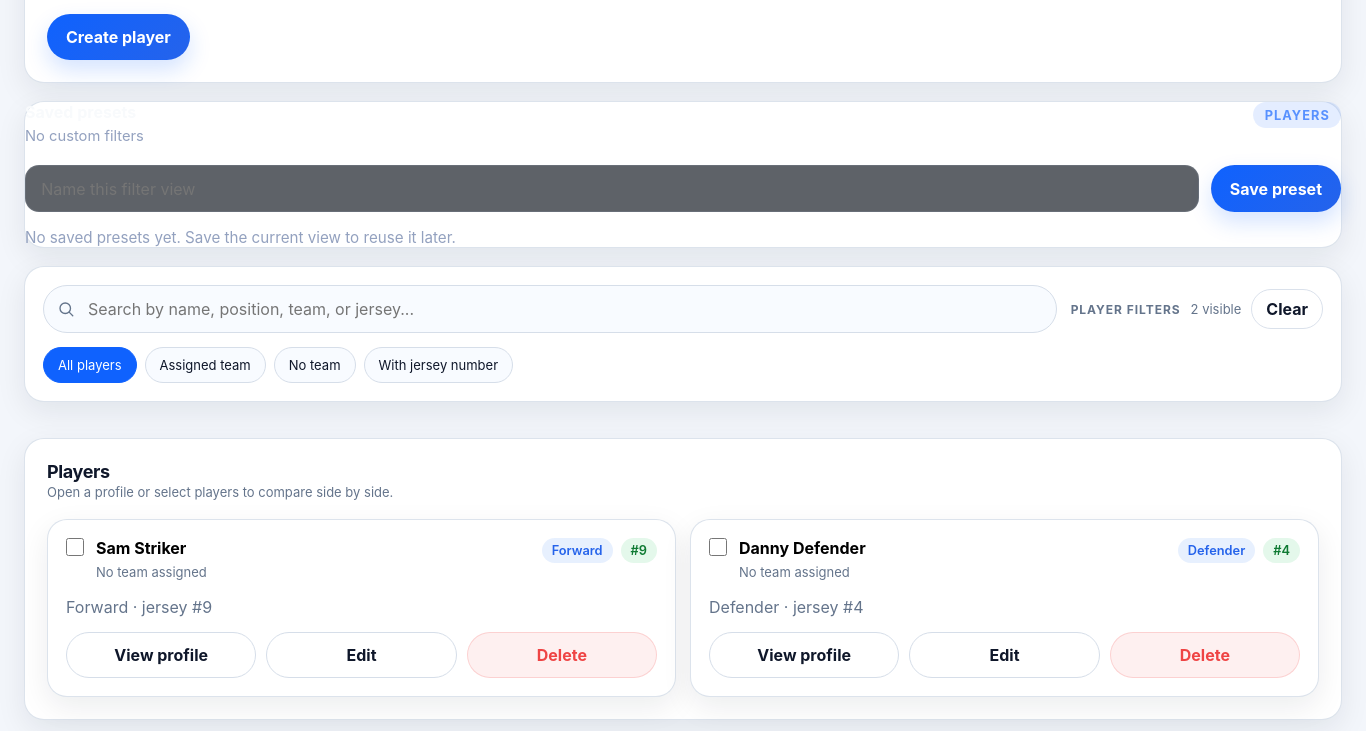
Test: PlayersPage player comparison selection › enables Compare only once two or more players are selected
(page scrolled)
Expected: the text "Sam Striker" is shown, [96,538,186,558]
Click the checkbox named "Select Sam Striker for comparison" at (75, 547), box [66,538,84,556]
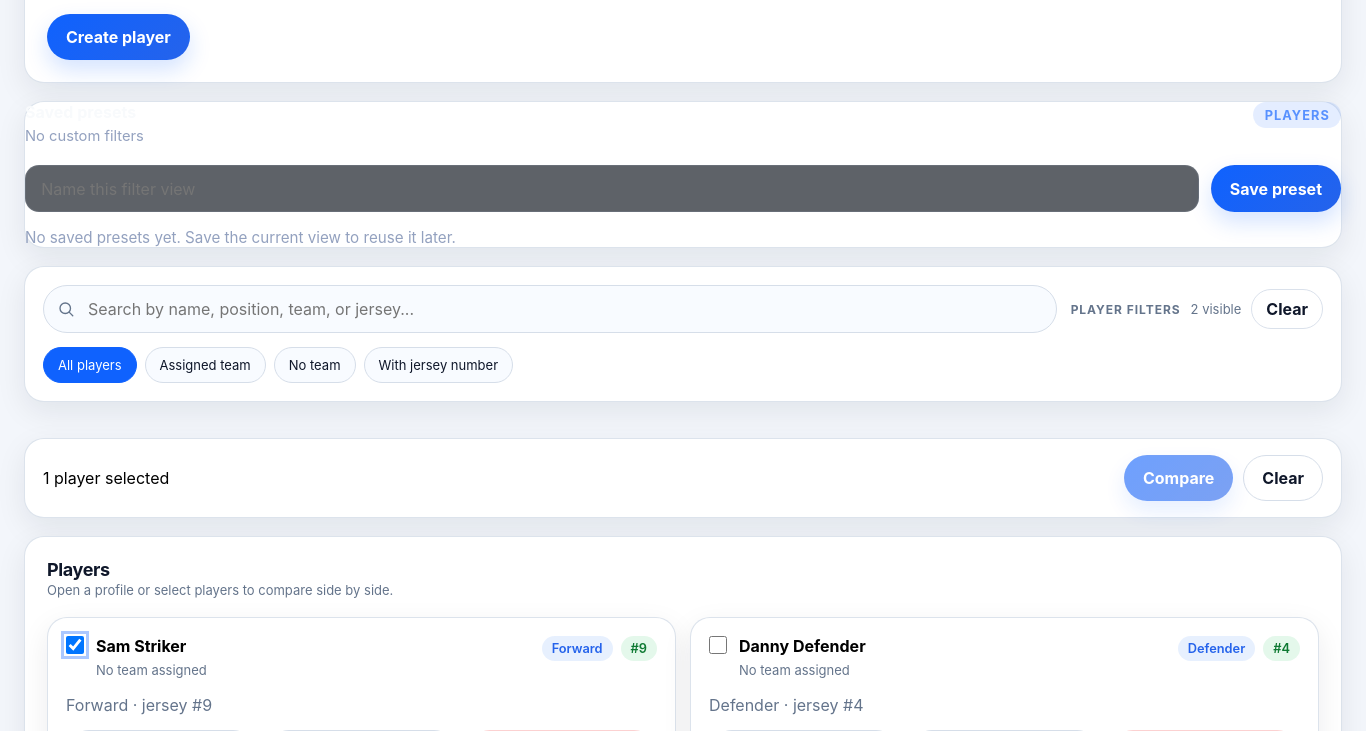
Now the text "1 player selected" is shown, box [43,468,169,488]
Now the button "Compare" is disabled, box [1124,455,1233,501]
Click the checkbox named "Select Danny Defender for comparison" at (718, 645), box [709,636,727,654]
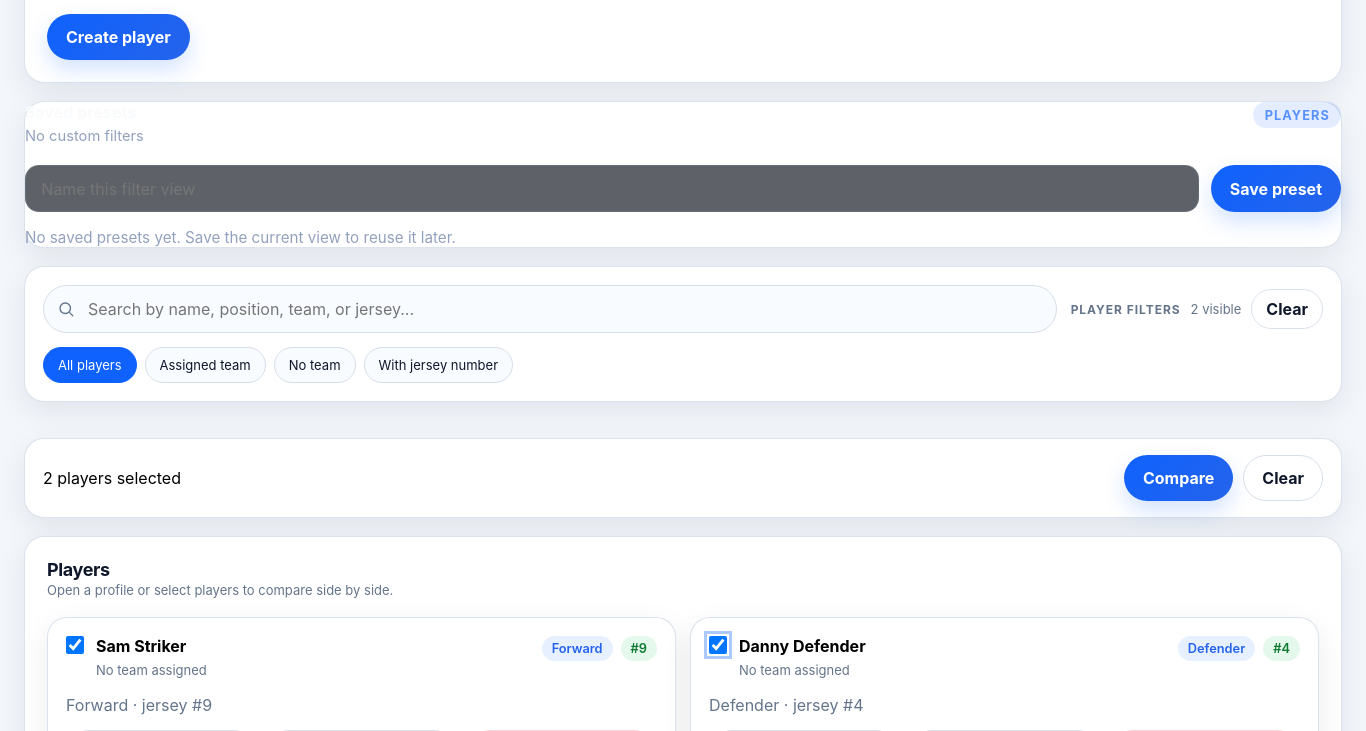
Now the text "2 players selected" is shown, box [43,468,181,488]
Now the button "Compare" is enabled, box [1124,455,1233,501]
